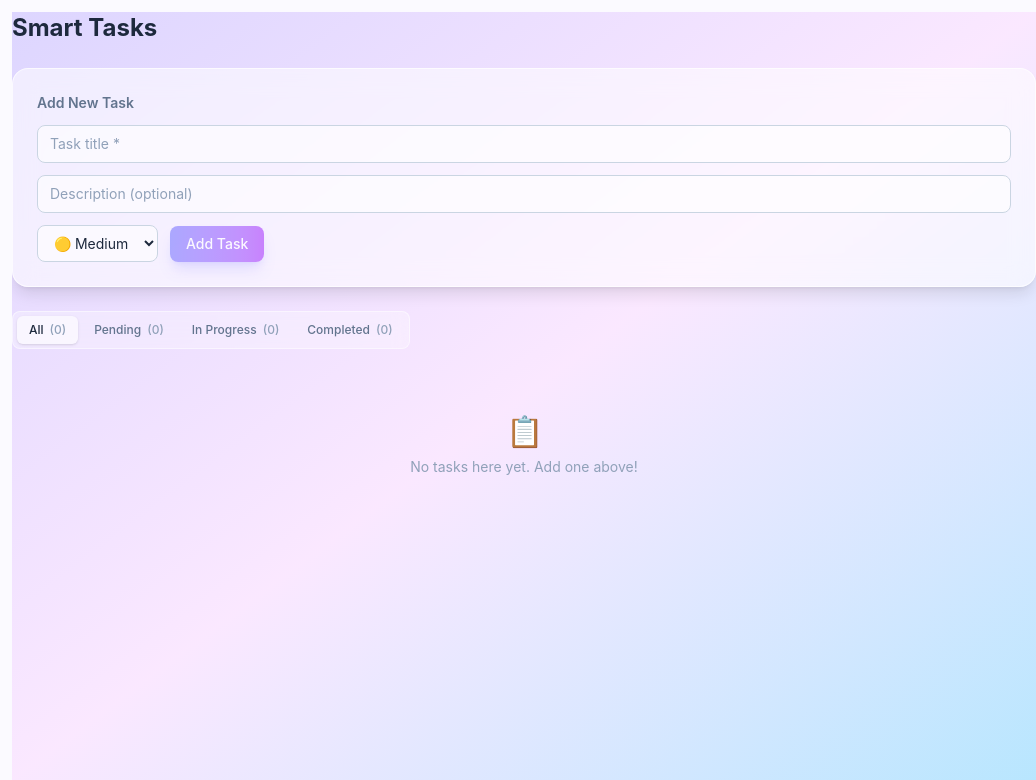
Test: Tasks page — add task form › adds the new task to the list after creation
The width and height of the screenshot is (1036, 780).
Type "New task" into the field with placeholder "Task title *". click: (524, 144)
box: 37,125 -> 1011,163
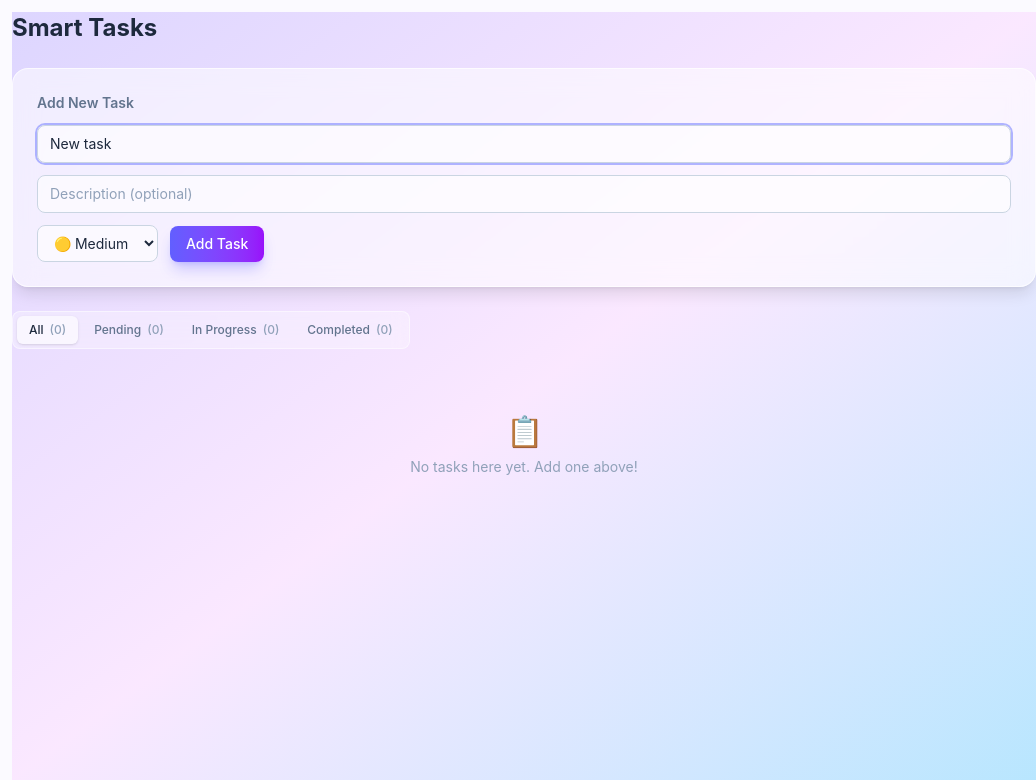
Click the button "Add Task". click: (217, 244)
box: 170,226 -> 264,262
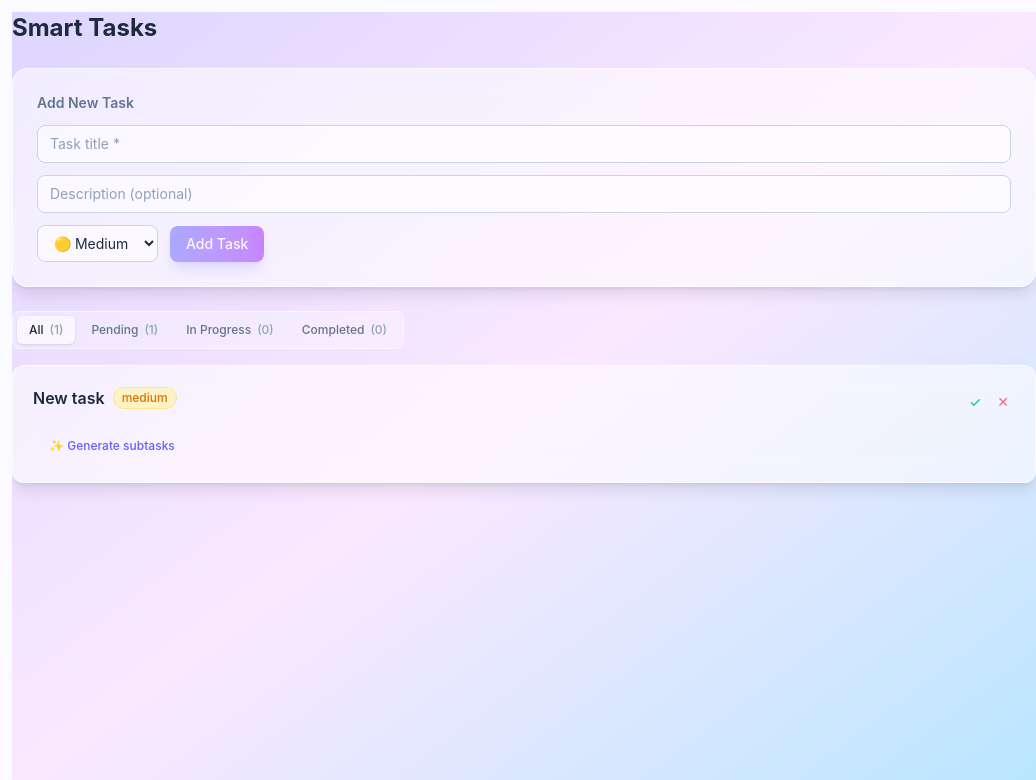
Expected: the heading "New task" is shown, 33,386 -> 105,410
